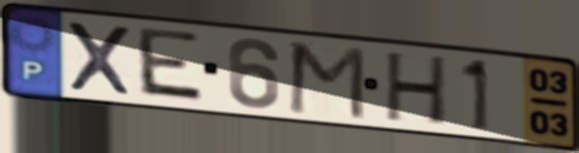1: (458, 58, 493, 133)
6: (224, 36, 282, 111)
E: (134, 24, 208, 107)
H: (382, 50, 451, 129)
M: (285, 40, 368, 123)
X: (62, 17, 137, 99)
